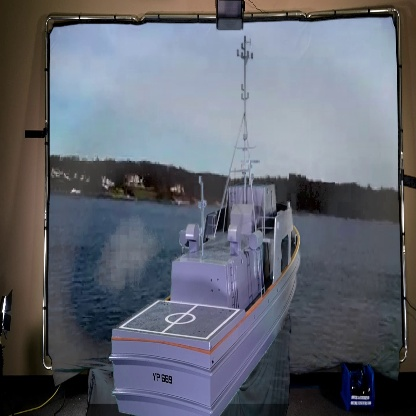YP689: (107, 38, 302, 416)
